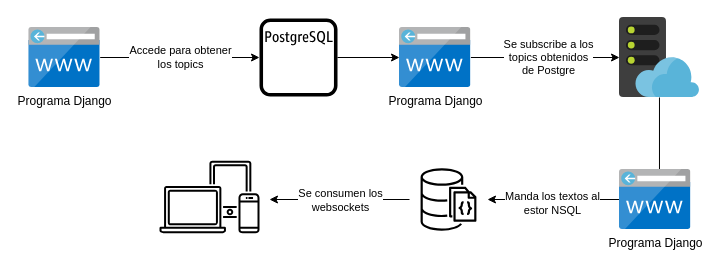
Some shapes in this 719 by 271 pixel diagram are drawn without their labels. The shapes that lost their labels are listed below. From the top down, each one's box as (x1, y1, x2, y2) in pixels, then its label:
(619, 17, 699, 97): MQTT Broker
(159, 160, 259, 233): Páginas web
